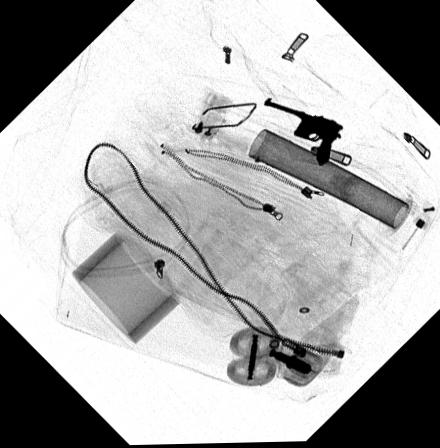Gun: (262, 93, 343, 165)
